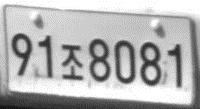0: (113, 39, 135, 84)
1: (167, 42, 184, 88), (37, 33, 54, 78)
8: (139, 40, 162, 86), (87, 38, 111, 82)
9: (10, 33, 33, 77)
조: (60, 43, 85, 81)
